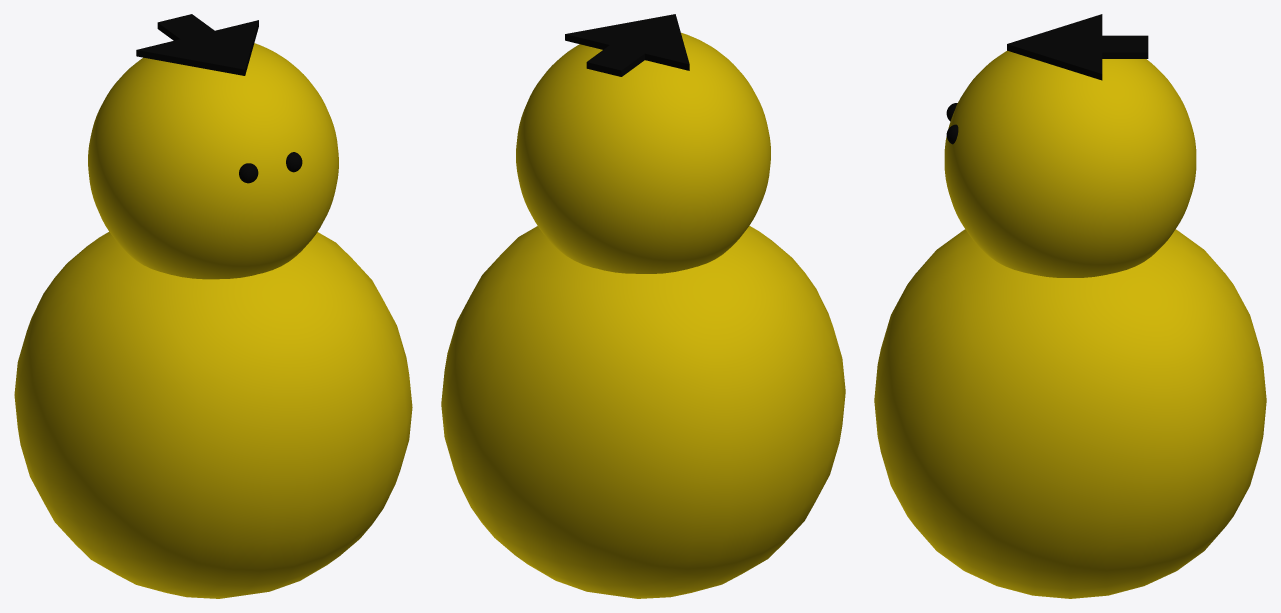
File: 1yellow.obj
3 renders of one model, left to right at view 1: azimuth 30°, elevation 25°; view 2: azimuth 150°, elevation 25°; view 3: azimuth 270°, elevation 25°, orthographic.
Visible parts, largest first — view 1: Cube.002_Cube.003_Material.003, Cube.002_Cube.003_SVGMat; view 2: Cube.002_Cube.003_Material.003, Cube.002_Cube.003_SVGMat; view 3: Cube.002_Cube.003_Material.003, Cube.002_Cube.003_SVGMat.
Boxes of the visible parts, <box> form: Cube.002_Cube.003_Material.003: <box>14,43,412,598</box>; Cube.002_Cube.003_SVGMat: <box>136,14,302,183</box>; Cube.002_Cube.003_Material.003: <box>441,32,845,598</box>; Cube.002_Cube.003_SVGMat: <box>565,14,689,76</box>; Cube.002_Cube.003_Material.003: <box>874,50,1266,598</box>; Cube.002_Cube.003_SVGMat: <box>946,14,1148,144</box>.
Size of the model in its own units: 0.3205 by 0.4814 by 0.3205.
